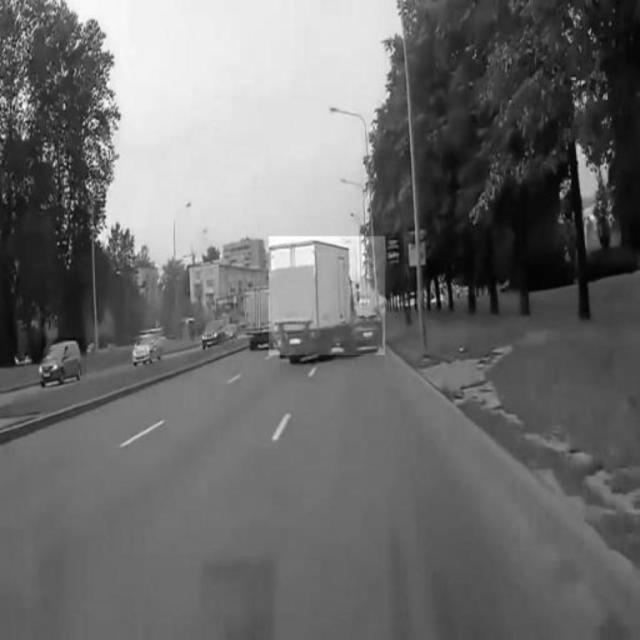accident: (269, 237, 385, 355)
vehicle: (42, 338, 87, 380)
